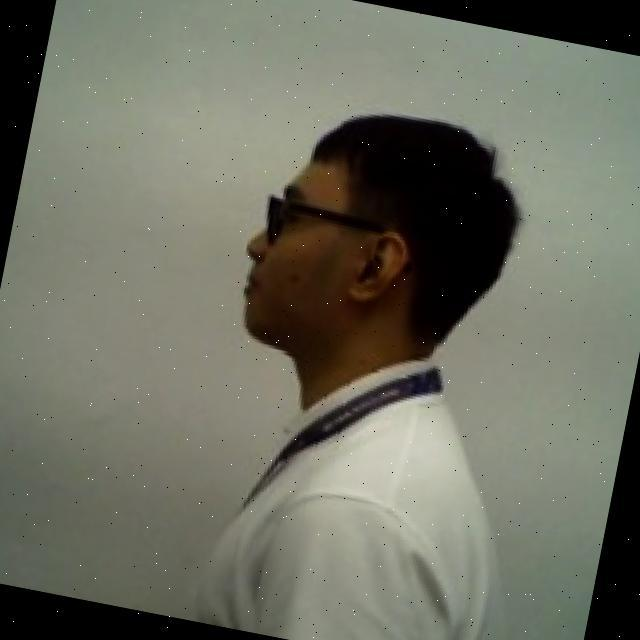no_gloves: (279, 88, 549, 262)
no_hairnet: (222, 203, 416, 377)
